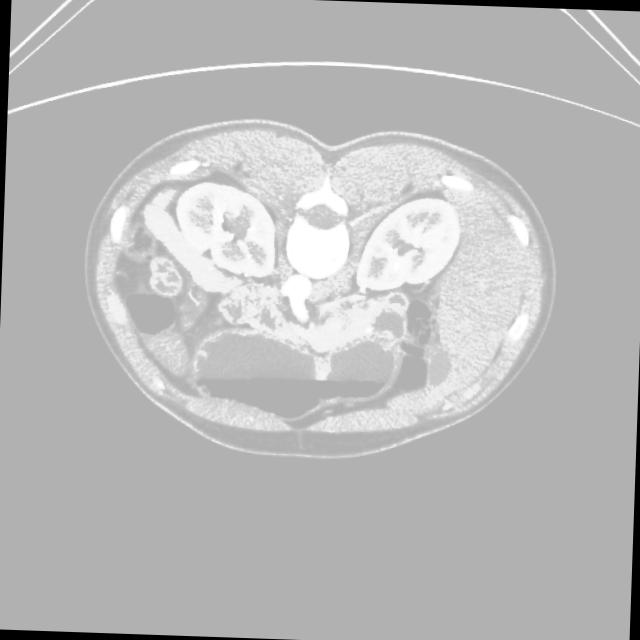NORMAL: (47, 65, 606, 505)
